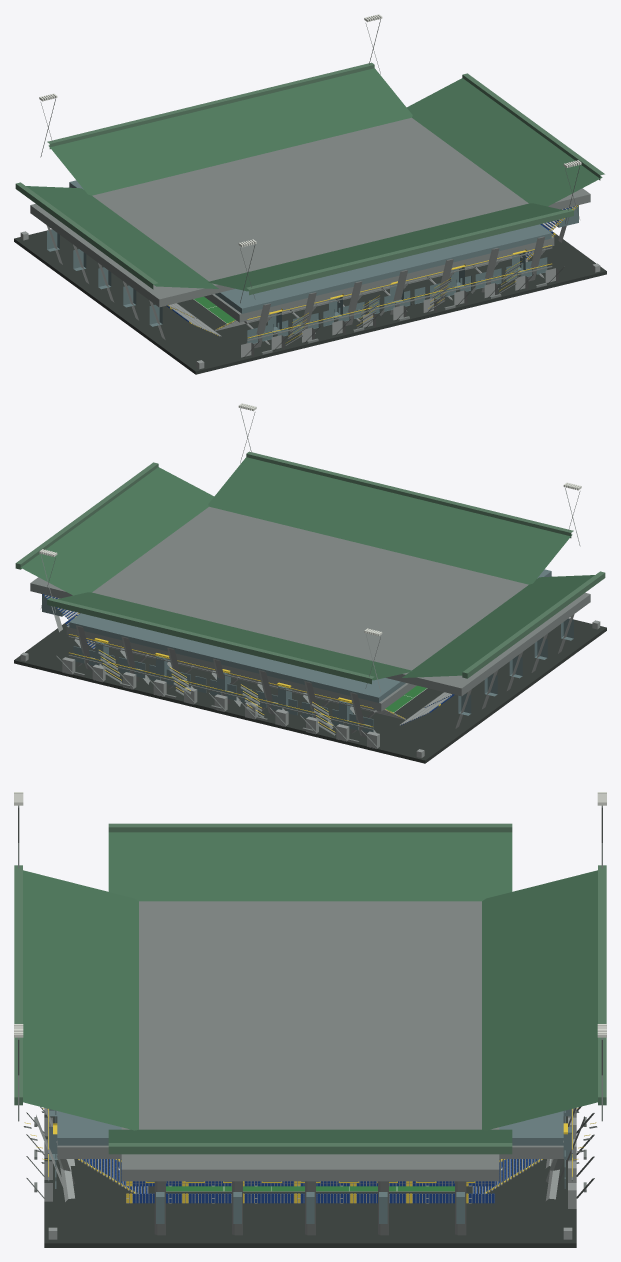
Rendered from jan_breydel.glb.
3 renders of one model, top to bottom at view 1: azimuth 30°, elevation 25°; view 2: azimuth 150°, elevation 25°; view 3: azimuth 270°, elevation 25°, orthographic. The views are drawn at different scales.
Visible parts, largest first — view 1: Jan Breydelstadion; view 2: Jan Breydelstadion; view 3: Jan Breydelstadion.
Part boxes in pixels (x1=…): Jan Breydelstadion: x1=14, y1=14, x2=606, y2=374; Jan Breydelstadion: x1=14, y1=403, x2=606, y2=763; Jan Breydelstadion: x1=14, y1=792, x2=606, y2=1247.
Size of the model in its own units: 178 by 48.3 by 138.
